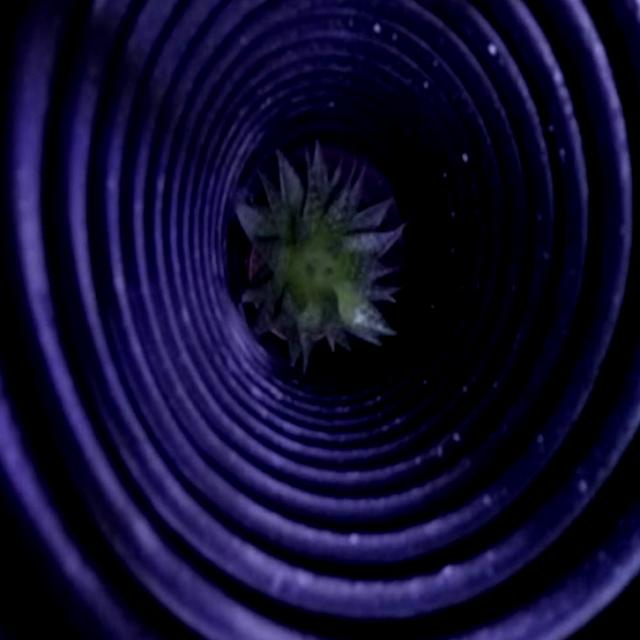leaf: (237, 147, 392, 361)
